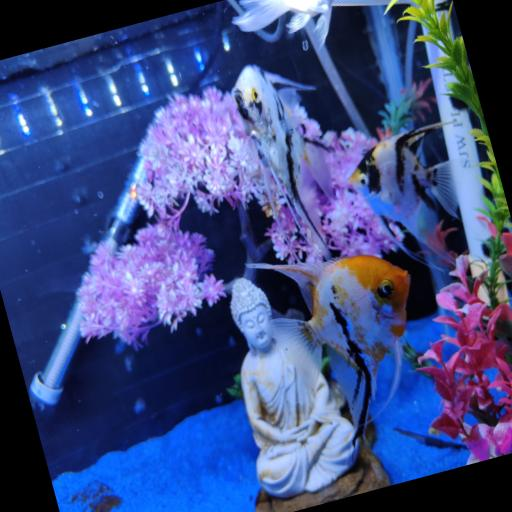Fish: (248, 255, 410, 438), (232, 65, 332, 259), (351, 123, 458, 265), (234, 0, 334, 47)
